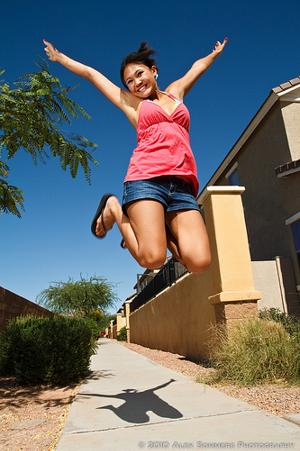person: (41, 32, 228, 272)
